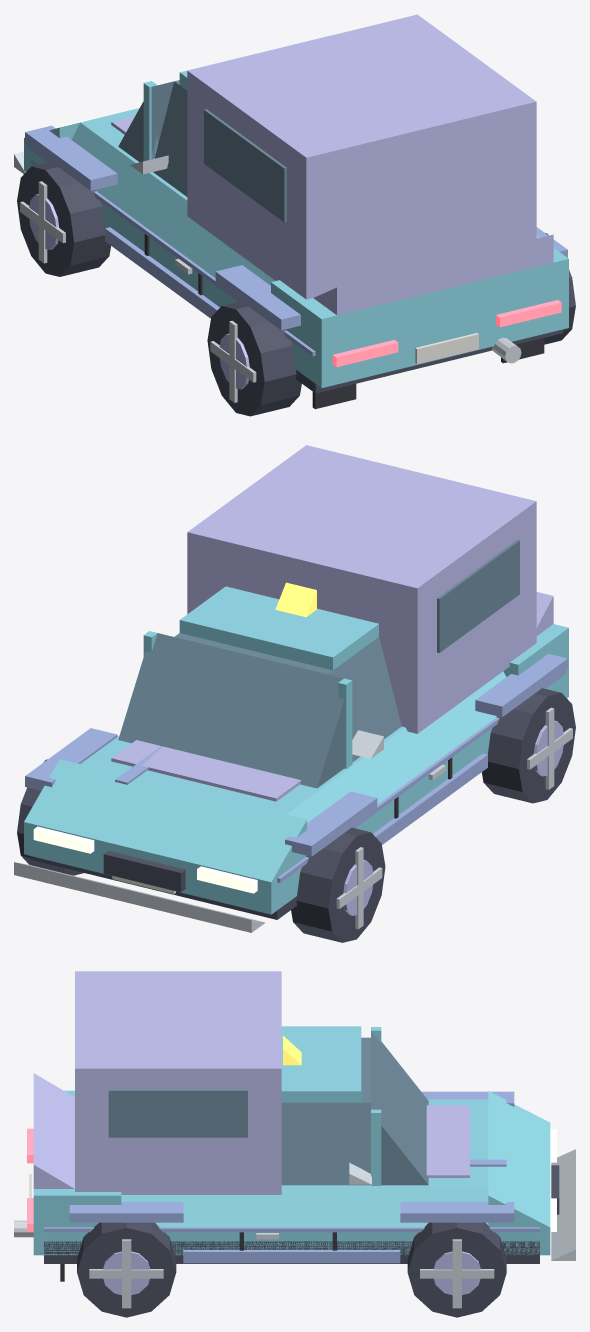
File: parkway_wagon.glb
The picture shows the model from 3 angles, top to bottom: view 1: azimuth 30°, elevation 25°; view 2: azimuth 150°, elevation 25°; view 3: azimuth 270°, elevation 25°; orthographic projection. The views are drawn at different scales.
Parts seen in each view (by area): view 1: VanCargo.016, Tail.055, Body.255, ShoulderL.052, Ducktail.040, Wheel_RL.215, Wheel_FL.215, VanWindow-1.016, Arch-1False.131, CabinSideL.052, Arch-1True.131, SideSkirt-1.151 (+14 smaller); view 2: VanCargo.016, Windshield.155, Nose.052, Roof.255, Body.255, ShoulderL.052, Wheel_FL.215, Wheel_RL.215, VanWindow-1.016, Hood.251, CabinSideL.052, Bumper.251 (+20 smaller); view 3: VanCargo.016, ShoulderR.052, CabinSideR.052, Nose.052, VanWindow1.016, Body.255, Windshield.155, Roof.255, Wheel_RR.215, Wheel_FR.215, Ducktail.040, Sill.251 (+17 smaller).
Boxes of the visible parts, box(x1,y1,x2,y2) form: VanCargo.016: box(187, 14, 536, 299); Tail.055: box(271, 235, 568, 355); Body.255: box(24, 138, 568, 388); ShoulderL.052: box(72, 122, 275, 285); Ducktail.040: box(313, 234, 553, 315); Wheel_RL.215: box(207, 301, 301, 416); Wheel_FL.215: box(17, 161, 110, 276); VanWindow-1.016: box(204, 109, 286, 222); Arch-1False.131: box(25, 125, 117, 190); CabinSideL.052: box(153, 81, 187, 196); Arch-1True.131: box(215, 265, 300, 330); SideSkirt-1.151: box(105, 227, 219, 318); VanCargo.016: box(187, 445, 536, 733); Windshield.155: box(118, 633, 344, 788); Nose.052: box(24, 759, 306, 882); Roof.255: box(179, 586, 378, 670); Body.255: box(24, 665, 568, 914); ShoulderL.052: box(287, 671, 506, 822); Wheel_FL.215: box(291, 827, 385, 942); Wheel_RL.215: box(482, 688, 575, 803); VanWindow-1.016: box(437, 539, 519, 652); Hood.251: box(111, 740, 301, 801); CabinSideL.052: box(328, 637, 401, 762); Bumper.251: box(14, 862, 265, 932); VanCargo.016: box(75, 971, 281, 1194); ShoulderR.052: box(121, 1186, 488, 1227); CabinSideR.052: box(281, 1102, 370, 1185); Nose.052: box(488, 1091, 550, 1227); VanWindow1.016: box(108, 1089, 247, 1137); Body.255: box(33, 1227, 550, 1255); Windshield.155: box(371, 1031, 428, 1185); Roof.255: box(281, 1026, 361, 1102); Wheel_RR.215: box(77, 1222, 176, 1317); Wheel_FR.215: box(407, 1222, 506, 1317); Ducktail.040: box(33, 1073, 74, 1188); Sill.251: box(44, 1241, 539, 1263).
Size of the model in its own units: 3.1 by 2.47 by 5.44.
